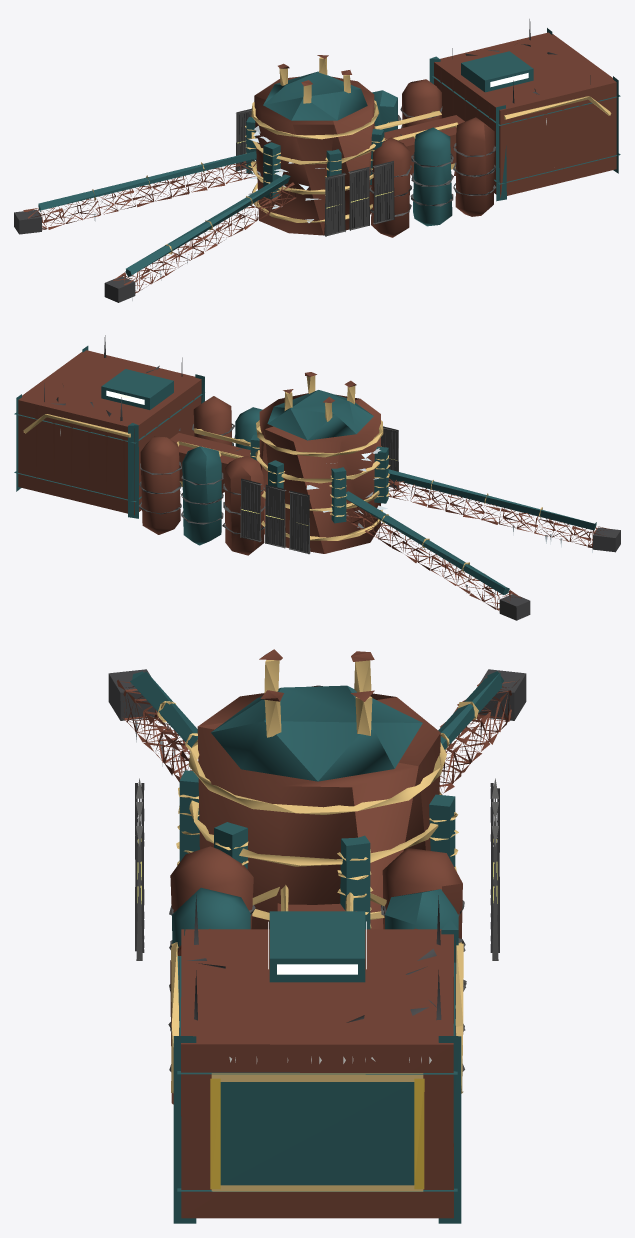
File: PumpwerkFern.28c45ec584.glb
3 renders of one model, top to bottom at view 1: azimuth 30°, elevation 25°; view 2: azimuth 150°, elevation 25°; view 3: azimuth 270°, elevation 25°, orthographic. The views are drawn at different scales.
Visible parts, largest first — view 1: Pumpwerk_lack, Pumpwerk_metall, Pumpwerk_matt; view 2: Pumpwerk_lack, Pumpwerk_metall; view 3: Pumpwerk_lack, Pumpwerk_metall, Pumpwerk_warn, Pumpwerk_glow_Fenster hell.
Boxes of the visible parts, x1=… form: Pumpwerk_lack: x1=14, y1=19, x2=620, y2=302; Pumpwerk_metall: x1=92, y1=57, x2=611, y2=254; Pumpwerk_matt: x1=94, y1=118, x2=546, y2=300; Pumpwerk_lack: x1=14, y1=335, x2=620, y2=620; Pumpwerk_metall: x1=23, y1=375, x2=542, y2=571; Pumpwerk_lack: x1=108, y1=649, x2=526, y2=1223; Pumpwerk_metall: x1=157, y1=660, x2=478, y2=1191; Pumpwerk_warn: x1=210, y1=1078, x2=424, y2=1189; Pumpwerk_glow_Fenster hell: x1=268, y1=921, x2=366, y2=974.
Size of the model in its own units: 150 by 43.81 by 51.68.
